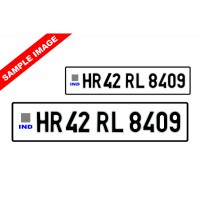number_plate: (12, 102, 189, 143), (65, 66, 192, 95)
